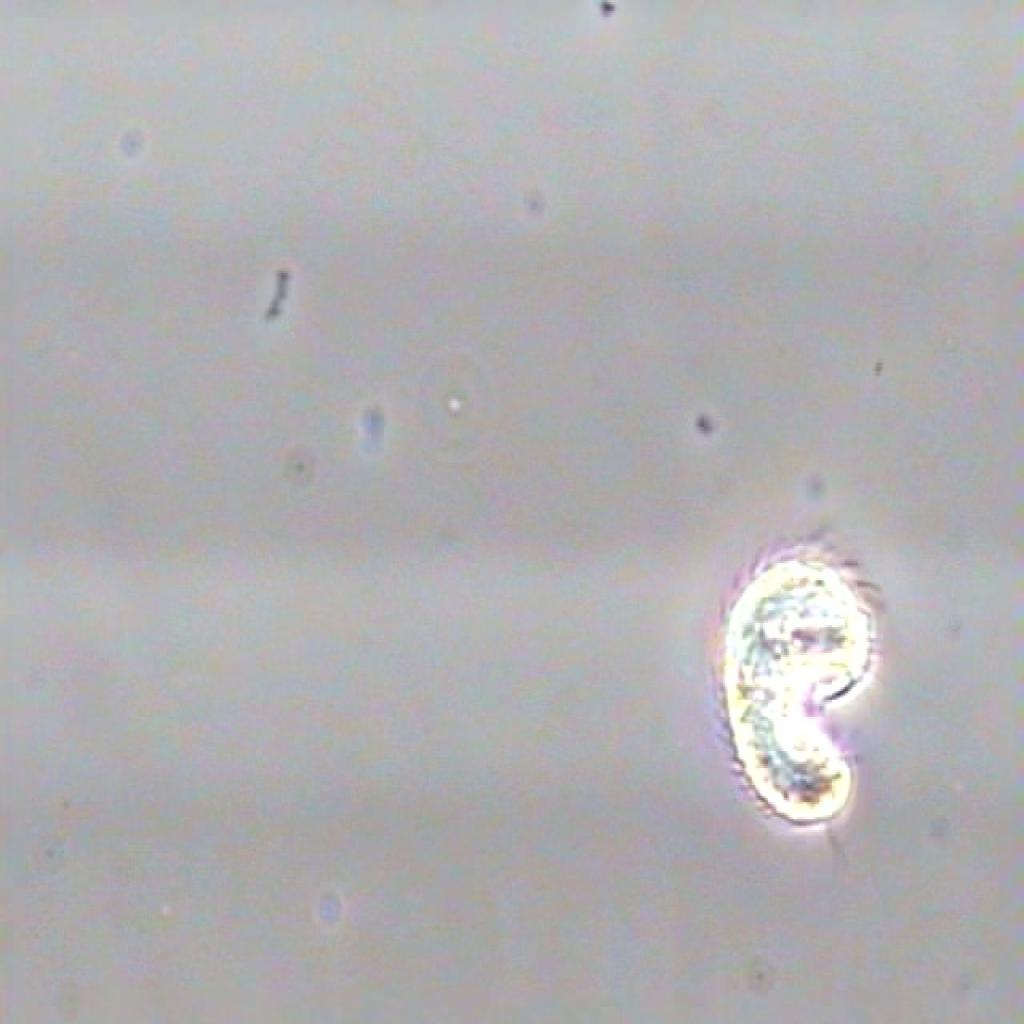Chaetonotus: (686, 522, 900, 867)
